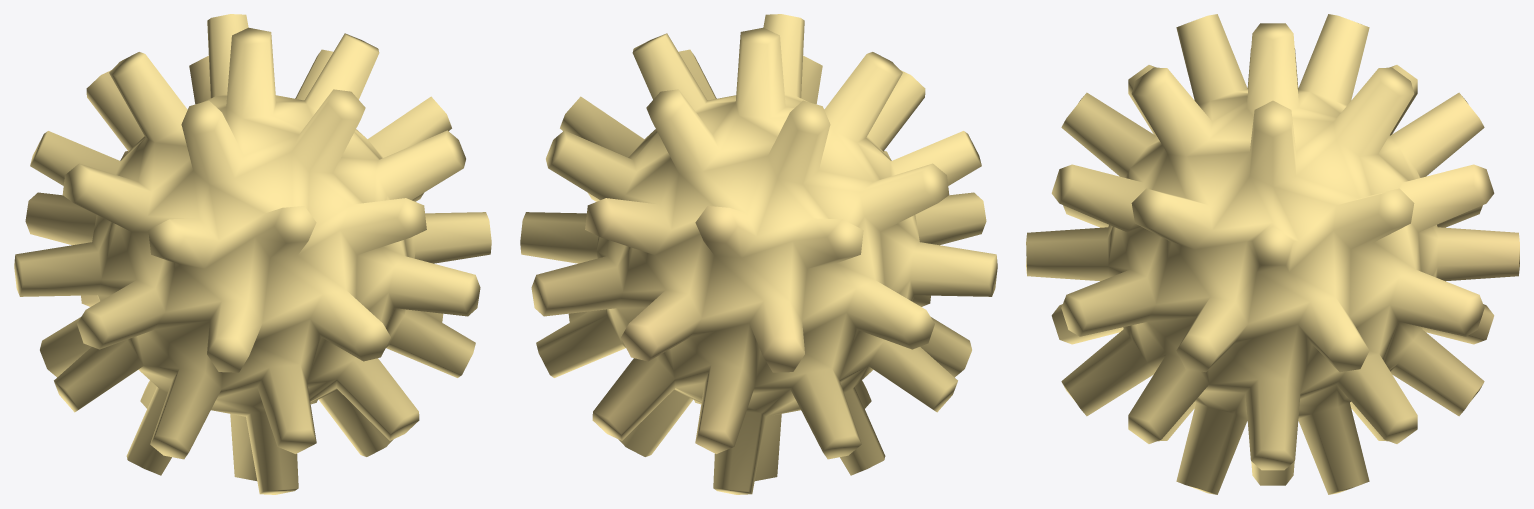
Rendered from ST_Obstacle_03_DoNotUse.fbx.
3 renders of one model, left to right at view 1: azimuth 30°, elevation 25°; view 2: azimuth 150°, elevation 25°; view 3: azimuth 270°, elevation 25°, orthographic. The views are drawn at different scales.
Parts seen in each view (by area): view 1: GeoSphere001; view 2: GeoSphere001; view 3: GeoSphere001.
Boxes of the visible parts, <box> form: GeoSphere001: <box>14,14,491,494</box>; GeoSphere001: <box>520,14,997,494</box>; GeoSphere001: <box>1026,14,1519,494</box>.
Size of the model in its own units: 42.13 by 43.24 by 43.24.
